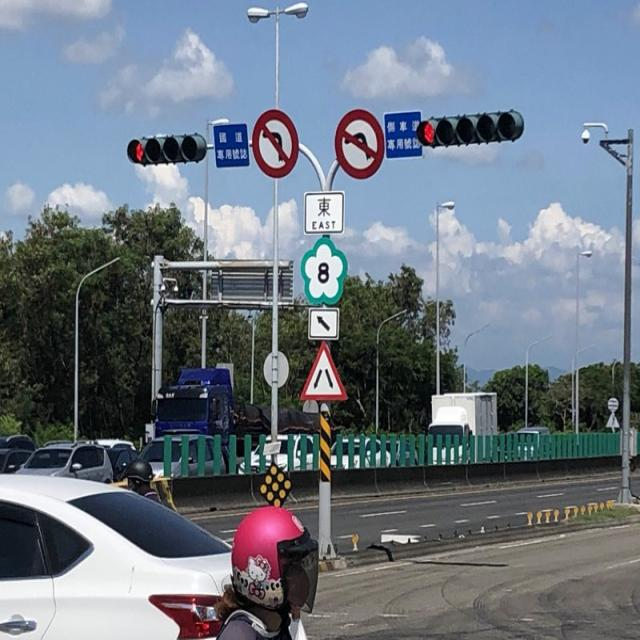red light: (418, 110, 525, 144), (127, 132, 208, 164)
